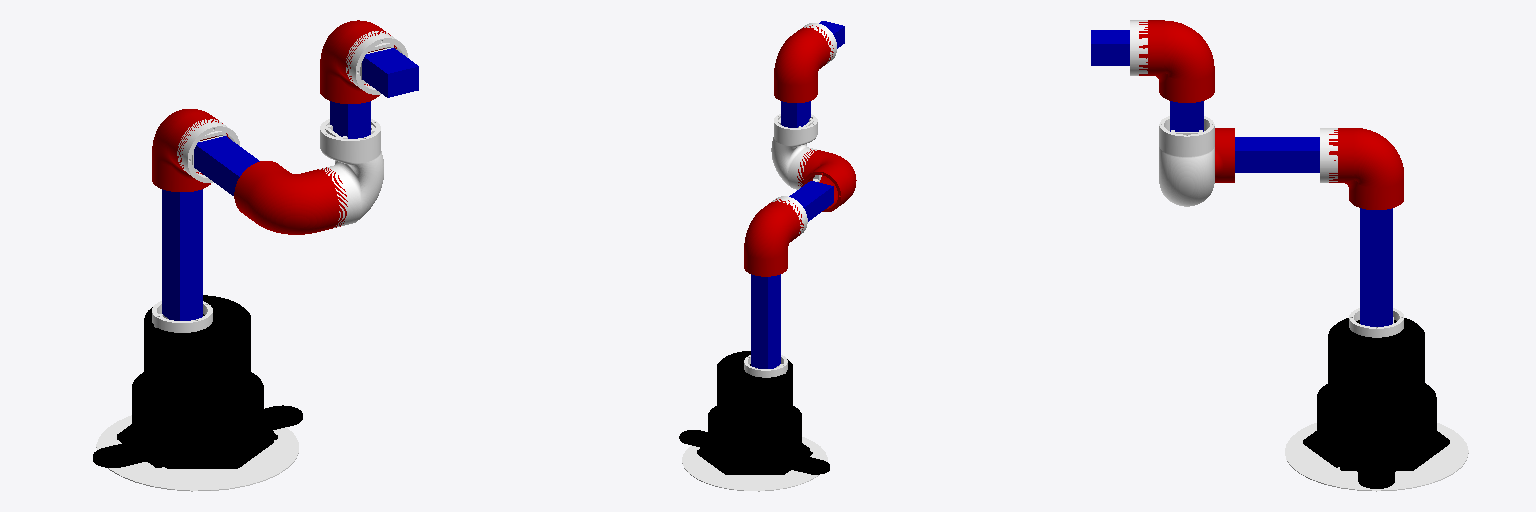
The robot description file, URDF, robot "test":
<?xml version="1.0"?>
<robot  name="test" >
 <material  name="blue" >
  <color  rgba="0 0 0.8 1.0" />
 </material>
 <material  name="red" >
  <color  rgba="0.8 0 0 1.0" />
 </material>
 <material  name="white" >
  <color  rgba="1.0 1.0 1.0 0.4" />
 </material>
 <material  name="black" >
  <color  rgba="0.0 0.0 0.0 1.0" />
 </material>
 <link  name="root_mod" >
  <visual >
   <origin  xyz="0 0 0"  rpy="0 0 0" />
   <material  name="white" />
   <geometry >
    <cylinder  length="0.001"  radius="0.1" />
   </geometry>
  </visual>
 </link>
 <link  name="baseMod_1" >
  <inertial >
   <origin  xyz="0.0 1.2212453270876722e-17 0.055"  rpy="1.5707963267948963 0.0 0.0" />
   <mass  value="1.245" />
   <inertia  izz="0.003107"  iyy="0.002417"  ixx="0.002797"  ixy="-0.0"  ixz="-0.0"  iyz="1.5e-05" />
  </inertial>
  <visual >
   <origin  xyz="0.0 1.2212453270876722e-17 0.055"  rpy="1.5707963267948963 0.0 0.0" />
   <material  name="black" />
   <geometry >
    <mesh  scale="0.001 0.001 0.001"  filename="./meshes/base-big-360.obj" />
   </geometry>
  </visual>
 </link>
 <joint  type="fixed"  name="joint_1_fixed" >
  <parent  link="root_mod" />
  <child  link="baseMod_1" />
  <origin  xyz="0.0 0.0 0.01"  rpy="0 0 0" />
  <limit  upper="3.14"  effort="50"  lower="-3.14"  velocity="10" />
 </joint>
 <link  name="connMod_2" >
  <inertial >
   <origin  xyz="-1.3766765505351941e-17 0.0 0.062"  rpy="-0.0 1.5707963267948966 0.0" />
   <mass  value="0.032" />
   <inertia  izz="1.2e-05"  iyy="1.1e-05"  ixx="2.1e-05"  ixy="0.0"  ixz="0.0"  iyz="0.0" />
  </inertial>
  <visual >
   <origin  xyz="-1.3766765505351941e-17 0.0 0.062"  rpy="-0.0 1.5707963267948966 0.0" />
   <material  name="white" />
   <geometry >
    <mesh  scale="0.001 0.001 0.001"  filename="./meshes/connector-0.obj" />
   </geometry>
  </visual>
 </link>
 <joint  type="revolute"  name="joint_2_revolute" >
  <parent  link="baseMod_1" />
  <child  link="connMod_2" />
  <origin  xyz="-0.0175 2.964295475749168e-17 0.1335"  rpy="0 0 0" />
  <axis  xyz="0.0 0.0 1.0" />
  <limit  upper="3.14"  effort="50"  lower="-3.14"  velocity="10" />
 </joint>
 <transmission  name="act_joint_2_revolute" >
  <type  xmltext="SimpleTransmission" >
   SimpleTransmission
  </type>
  <actuator  name="trans_joint_2_revolute" >
   <mechanicalreduction  xmltext="1" >
    1
   </mechanicalreduction>
  </actuator>
  <joint  name="joint_2_revolute" />
 </transmission>
 <link  name="linkMod_3" >
  <inertial >
   <origin  xyz="-1.3766765505351941e-17 0.0 -0.062"  rpy="0.0 -1.5707963267948966 0.0" />
   <mass  value="0.167" />
   <inertia  izz="0.000331"  iyy="0.000322"  ixx="2.7e-05"  ixy="0.0"  ixz="0.0"  iyz="0.0" />
  </inertial>
  <visual >
   <origin  xyz="-1.3766765505351941e-17 0.0 -0.062"  rpy="0.0 -1.5707963267948966 0.0" />
   <material  name="blue" />
   <geometry >
    <mesh  scale="0.001 0.001 0.001"  filename="./meshes/link-150.obj" />
   </geometry>
  </visual>
 </link>
 <joint  type="fixed"  name="joint_3_fixed" >
  <parent  link="connMod_2" />
  <child  link="linkMod_3" />
  <origin  xyz="-4.44089209850063e-19 0.0 0.0020000000000000018"  rpy="0 0 0" />
  <axis  xyz="-0.0 0.0 1.0" />
  <limit  upper="3.14"  effort="50"  lower="-3.14"  velocity="10" />
 </joint>
 <link  name="jointMod_4" >
  <inertial >
   <origin  xyz="-1.1546319456101627e-17 0.0 0.052"  rpy="-0.0 1.5707963267948966 0.0" />
   <mass  value="0.184" />
   <inertia  izz="9e-05"  iyy="7.8e-05"  ixx="7.8e-05"  ixy="-1.3e-05"  ixz="-0.0"  iyz="0.0" />
  </inertial>
  <visual >
   <origin  xyz="-1.1546319456101627e-17 0.0 0.052"  rpy="-0.0 1.5707963267948966 0.0" />
   <material  name="red" />
   <geometry >
    <mesh  scale="0.001 0.001 0.001"  filename="./meshes/90-joint.obj" />
   </geometry>
  </visual>
 </link>
 <joint  type="fixed"  name="joint_4_fixed" >
  <parent  link="linkMod_3" />
  <child  link="jointMod_4" />
  <origin  xyz="3.3306690738754695e-17 0.0 0.15"  rpy="0 0 0" />
  <axis  xyz="0.0 0.0 1.0" />
  <limit  upper="3.14"  effort="50"  lower="-3.14"  velocity="10" />
 </joint>
 <link  name="connMod_5" >
  <inertial >
   <origin  xyz="-1.3766765505351941e-17 -0.062 0.0"  rpy="0.0 0.0 1.5707963267948963" />
   <mass  value="0.032" />
   <inertia  izz="1.2e-05"  iyy="1.1e-05"  ixx="2.1e-05"  ixy="0.0"  ixz="0.0"  iyz="0.0" />
  </inertial>
  <visual >
   <origin  xyz="-1.3766765505351941e-17 -0.062 0.0"  rpy="0.0 0.0 1.5707963267948963" />
   <material  name="white" />
   <geometry >
    <mesh  scale="0.001 0.001 0.001"  filename="./meshes/connector-0.obj" />
   </geometry>
  </visual>
 </link>
 <joint  type="revolute"  name="joint_5_revolute" >
  <parent  link="jointMod_4" />
  <child  link="connMod_5" />
  <origin  xyz="-1.1546319456101627e-17 -0.052 0.052"  rpy="0 0 0" />
  <axis  xyz="0.0 -1.0 0.0" />
  <limit  upper="3.14"  effort="50"  lower="-3.14"  velocity="10" />
 </joint>
 <transmission  name="act_joint_5_revolute" >
  <type  xmltext="SimpleTransmission" >
   SimpleTransmission
  </type>
  <actuator  name="trans_joint_5_revolute" >
   <mechanicalreduction  xmltext="1" >
    1
   </mechanicalreduction>
  </actuator>
  <joint  name="joint_5_revolute" />
 </transmission>
 <link  name="linkMod_6" >
  <inertial >
   <origin  xyz="-1.3766765505351941e-17 0.062 0.0"  rpy="0.0 0.0 -1.5707963267948963" />
   <mass  value="0.05" />
   <inertia  izz="0.000206"  iyy="0.000206"  ixx="6.5e-05"  ixy="0.0"  ixz="0.0"  iyz="0.0" />
  </inertial>
  <visual >
   <origin  xyz="-1.3766765505351941e-17 0.062 0.0"  rpy="0.0 0.0 -1.5707963267948963" />
   <material  name="blue" />
   <geometry >
    <mesh  scale="0.001 0.001 0.001"  filename="./meshes/link-100.obj" />
   </geometry>
  </visual>
 </link>
 <joint  type="fixed"  name="joint_6_fixed" >
  <parent  link="connMod_5" />
  <child  link="linkMod_6" />
  <origin  xyz="-4.44089209850063e-19 -0.0020000000000000018 0.0"  rpy="0 0 0" />
  <axis  xyz="-0.0 -1.0 0.0" />
  <limit  upper="3.14"  effort="50"  lower="-3.14"  velocity="10" />
 </joint>
 <link  name="jointMod_7" >
  <inertial >
   <origin  xyz="-1.1546319456101627e-17 -0.052 0.0"  rpy="0.0 0.0 1.5707963267948963" />
   <mass  value="0.184" />
   <inertia  izz="9e-05"  iyy="7.8e-05"  ixx="7.8e-05"  ixy="-1.3e-05"  ixz="-0.0"  iyz="0.0" />
  </inertial>
  <visual >
   <origin  xyz="-1.1546319456101627e-17 -0.052 0.0"  rpy="0.0 0.0 1.5707963267948963" />
   <material  name="red" />
   <geometry >
    <mesh  scale="0.001 0.001 0.001"  filename="./meshes/90-joint.obj" />
   </geometry>
  </visual>
 </link>
 <joint  type="fixed"  name="joint_7_fixed" >
  <parent  link="linkMod_6" />
  <child  link="jointMod_7" />
  <origin  xyz="2.2204460492503132e-17 -0.1 0.0"  rpy="0 0 0" />
  <axis  xyz="0.0 -1.0 0.0" />
  <limit  upper="3.14"  effort="50"  lower="-3.14"  velocity="10" />
 </joint>
 <link  name="connMod_8" >
  <inertial >
   <origin  xyz="0.02 4.440892098500626e-18 0.0"  rpy="0.0 0.0 -1.5707963267948963" />
   <mass  value="0.263" />
   <inertia  izz="0.000125"  iyy="0.00023"  ixx="0.000226"  ixy="0.0"  ixz="-0.0"  iyz="-1.5e-05" />
  </inertial>
  <visual >
   <origin  xyz="0.02 4.440892098500626e-18 0.0"  rpy="0.0 0.0 -1.5707963267948963" />
   <material  name="white" />
   <geometry >
    <mesh  scale="0.001 0.001 0.001"  filename="./meshes/90-connector.obj" />
   </geometry>
  </visual>
 </link>
 <joint  type="revolute"  name="joint_8_revolute" >
  <parent  link="jointMod_7" />
  <child  link="connMod_8" />
  <origin  xyz="0.051999999999999984 -0.05200000000000001 0.0"  rpy="0 0 0" />
  <axis  xyz="1.0 -0.0 0.0" />
  <limit  upper="3.14"  effort="50"  lower="-3.14"  velocity="10" />
 </joint>
 <transmission  name="act_joint_8_revolute" >
  <type  xmltext="SimpleTransmission" >
   SimpleTransmission
  </type>
  <actuator  name="trans_joint_8_revolute" >
   <mechanicalreduction  xmltext="1" >
    1
   </mechanicalreduction>
  </actuator>
  <joint  name="joint_8_revolute" />
 </transmission>
 <link  name="linkMod_9" >
  <inertial >
   <origin  xyz="-1.3766765505351941e-17 0.0 -0.062"  rpy="0.0 -1.5707963267948966 0.0" />
   <mass  value="0.05" />
   <inertia  izz="1.6e-05"  iyy="1.3e-05"  ixx="8e-06"  ixy="0.0"  ixz="0.0"  iyz="0.0" />
  </inertial>
  <visual >
   <origin  xyz="-1.3766765505351941e-17 0.0 -0.062"  rpy="0.0 -1.5707963267948966 0.0" />
   <material  name="blue" />
   <geometry >
    <mesh  scale="0.001 0.001 0.001"  filename="./meshes/link-50.obj" />
   </geometry>
  </visual>
 </link>
 <joint  type="fixed"  name="joint_9_fixed" >
  <parent  link="connMod_8" />
  <child  link="linkMod_9" />
  <origin  xyz="0.02 4.440892098500626e-18 0.06"  rpy="0 0 0" />
  <axis  xyz="0.0 0.0 1.0" />
  <limit  upper="3.14"  effort="50"  lower="-3.14"  velocity="10" />
 </joint>
 <link  name="jointMod_10" >
  <inertial >
   <origin  xyz="-1.1546319456101627e-17 0.0 0.052"  rpy="-0.0 1.5707963267948966 0.0" />
   <mass  value="0.184" />
   <inertia  izz="9e-05"  iyy="7.8e-05"  ixx="7.8e-05"  ixy="-1.3e-05"  ixz="-0.0"  iyz="0.0" />
  </inertial>
  <visual >
   <origin  xyz="-1.1546319456101627e-17 0.0 0.052"  rpy="-0.0 1.5707963267948966 0.0" />
   <material  name="red" />
   <geometry >
    <mesh  scale="0.001 0.001 0.001"  filename="./meshes/90-joint.obj" />
   </geometry>
  </visual>
 </link>
 <joint  type="fixed"  name="joint_10_fixed" >
  <parent  link="linkMod_9" />
  <child  link="jointMod_10" />
  <origin  xyz="1.1102230246251566e-17 0.0 0.05"  rpy="0 0 0" />
  <axis  xyz="0.0 0.0 1.0" />
  <limit  upper="3.14"  effort="50"  lower="-3.14"  velocity="10" />
 </joint>
 <link  name="connMod_11" >
  <inertial >
   <origin  xyz="-1.3766765505351941e-17 -0.062 0.0"  rpy="0.0 0.0 1.5707963267948963" />
   <mass  value="0.032" />
   <inertia  izz="1.2e-05"  iyy="1.1e-05"  ixx="2.1e-05"  ixy="0.0"  ixz="0.0"  iyz="0.0" />
  </inertial>
  <visual >
   <origin  xyz="-1.3766765505351941e-17 -0.062 0.0"  rpy="0.0 0.0 1.5707963267948963" />
   <material  name="white" />
   <geometry >
    <mesh  scale="0.001 0.001 0.001"  filename="./meshes/connector-0.obj" />
   </geometry>
  </visual>
 </link>
 <joint  type="revolute"  name="joint_11_revolute" >
  <parent  link="jointMod_10" />
  <child  link="connMod_11" />
  <origin  xyz="-1.1546319456101627e-17 -0.052 0.052"  rpy="0 0 0" />
  <axis  xyz="0.0 -1.0 0.0" />
  <limit  upper="3.14"  effort="50"  lower="-3.14"  velocity="10" />
 </joint>
 <transmission  name="act_joint_11_revolute" >
  <type  xmltext="SimpleTransmission" >
   SimpleTransmission
  </type>
  <actuator  name="trans_joint_11_revolute" >
   <mechanicalreduction  xmltext="1" >
    1
   </mechanicalreduction>
  </actuator>
  <joint  name="joint_11_revolute" />
 </transmission>
 <link  name="linkMod_12" >
  <inertial >
   <origin  xyz="-1.3766765505351941e-17 0.062 0.0"  rpy="0.0 0.0 -1.5707963267948963" />
   <mass  value="0.05" />
   <inertia  izz="1.6e-05"  iyy="1.3e-05"  ixx="8e-06"  ixy="0.0"  ixz="0.0"  iyz="0.0" />
  </inertial>
  <visual >
   <origin  xyz="-1.3766765505351941e-17 0.062 0.0"  rpy="0.0 0.0 -1.5707963267948963" />
   <material  name="blue" />
   <geometry >
    <mesh  scale="0.001 0.001 0.001"  filename="./meshes/link-50.obj" />
   </geometry>
  </visual>
 </link>
 <joint  type="fixed"  name="joint_12_fixed" >
  <parent  link="connMod_11" />
  <child  link="linkMod_12" />
  <origin  xyz="-4.44089209850063e-19 -0.0020000000000000018 0.0"  rpy="0 0 0" />
  <axis  xyz="-0.0 -1.0 0.0" />
  <limit  upper="3.14"  effort="50"  lower="-3.14"  velocity="10" />
 </joint>
 <link  name="eef" />
 <joint  type="fixed"  name="eef_joint" >
  <parent  link="linkMod_12" />
  <child  link="eef" />
  <origin  xyz="1.1102230246251566e-17 -0.05 0.0"  rpy="0 0 0" />
  <axis  xyz="0.0 -1.0 0.0" />
  <limit  upper="3.14"  effort="50"  lower="-3.14"  velocity="10" />
 </joint>
</robot>

--- What the picture shows (computed from the rendered views, not written in the file) ---
Views: 3 orthographic renders of the robot side by side, from view 1: azimuth 30°, elevation 25°; view 2: azimuth 150°, elevation 25°; view 3: azimuth 270°, elevation 25°.
Model test with 14 links and 13 joints (4 revolute, 9 fixed), rooted at root_mod, posed all joints at 0.
Links seen in each view (by area): view 1: baseMod_1, jointMod_7, linkMod_3, root_mod, connMod_8, jointMod_10, jointMod_4, linkMod_6, linkMod_12, connMod_5, connMod_11, linkMod_9 (+1 smaller); view 2: baseMod_1, jointMod_4, jointMod_10, linkMod_3, root_mod, connMod_8, jointMod_7, linkMod_6, linkMod_9; view 3: baseMod_1, jointMod_10, jointMod_4, root_mod, connMod_8, linkMod_3, linkMod_6, linkMod_12, jointMod_7, linkMod_9, connMod_5, connMod_2 (+1 smaller).
Boxes of the visible links, left/top/right/bottom form: baseMod_1: left=93, top=295, right=302, bottom=468; jointMod_7: left=234, top=161, right=347, bottom=234; linkMod_3: left=162, top=189, right=202, bottom=320; root_mod: left=96, top=415, right=298, bottom=491; connMod_8: left=319, top=119, right=383, bottom=227; jointMod_10: left=320, top=20, right=396, bottom=103; jointMod_4: left=152, top=109, right=229, bottom=191; linkMod_6: left=194, top=136, right=259, bottom=195; linkMod_12: left=362, top=48, right=418, bottom=97; connMod_5: left=177, top=119, right=239, bottom=182; connMod_11: left=346, top=31, right=407, bottom=94; linkMod_9: left=330, top=101, right=370, bottom=138; baseMod_1: left=679, top=351, right=829, bottom=474; jointMod_4: left=744, top=199, right=803, bottom=276; jointMod_10: left=774, top=25, right=833, bottom=102; linkMod_3: left=751, top=274, right=780, bottom=368; root_mod: left=682, top=437, right=827, bottom=491; connMod_8: left=771, top=114, right=821, bottom=189; jointMod_7: left=797, top=149, right=856, bottom=211; linkMod_6: left=789, top=181, right=833, bottom=221; linkMod_9: left=781, top=101, right=810, bottom=127; baseMod_1: left=1303, top=318, right=1449, bottom=488; jointMod_10: left=1139, top=20, right=1214, bottom=102; jointMod_4: left=1329, top=128, right=1403, bottom=209; root_mod: left=1285, top=423, right=1468, bottom=491; connMod_8: left=1159, top=116, right=1214, bottom=206; linkMod_3: left=1360, top=208, right=1392, bottom=326; linkMod_6: left=1235, top=137, right=1319, bottom=172; linkMod_12: left=1091, top=30, right=1129, bottom=65; jointMod_7: left=1215, top=128, right=1234, bottom=182; linkMod_9: left=1170, top=101, right=1203, bottom=131; connMod_5: left=1320, top=128, right=1337, bottom=182; connMod_2: left=1349, top=308, right=1403, bottom=337.
Bounding box of the posed robot: 0.2326 × 0.41 × 0.54 m (x, y, z).
12 mesh visuals loaded from 7 distinct referenced files (7 OBJ).